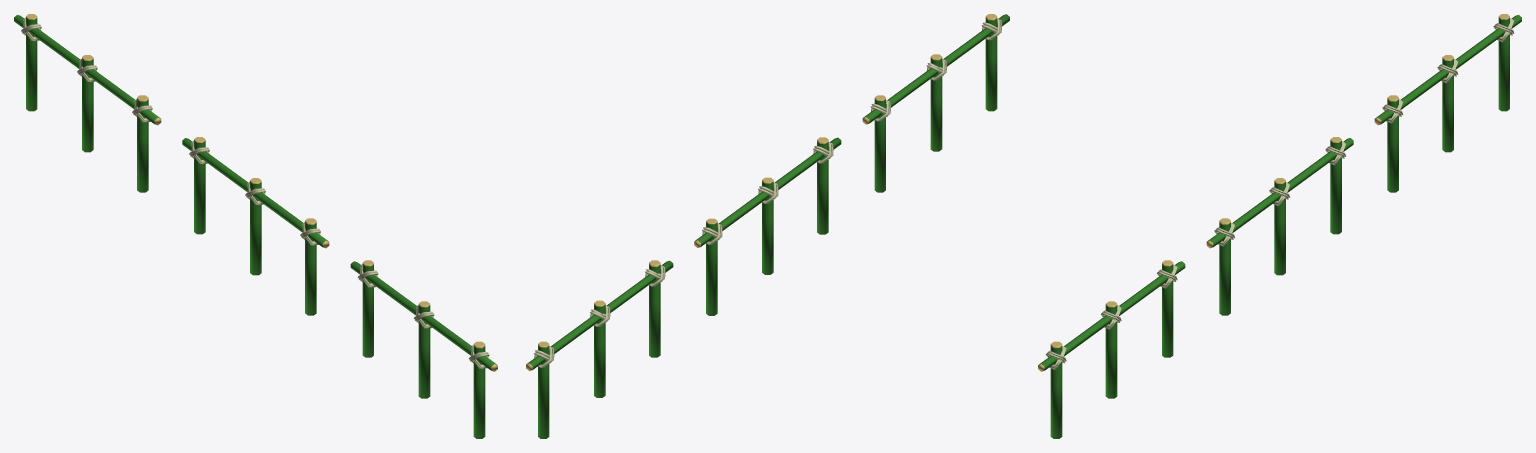
The model's file is PembatasJalanArray3.fbx.
3 views of the same model, side by side, from view 1: azimuth 30°, elevation 25°; view 2: azimuth 150°, elevation 25°; view 3: azimuth 330°, elevation 25° (orthographic).
Parts seen in each view (by area): view 1: PembatasJalan.003; view 2: PembatasJalan.003; view 3: PembatasJalan.003.
Boxes of the visible parts, bbox=[...] form: PembatasJalan.003: bbox=[14, 14, 497, 438]; PembatasJalan.003: bbox=[526, 14, 1009, 438]; PembatasJalan.003: bbox=[1038, 14, 1521, 438].
Bounding box in the file's own units: 77.49 × 3400 × 365.
